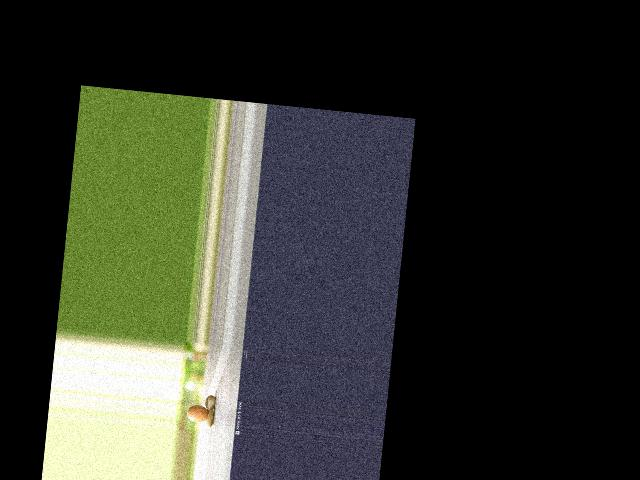egg: (186, 403, 209, 423)
